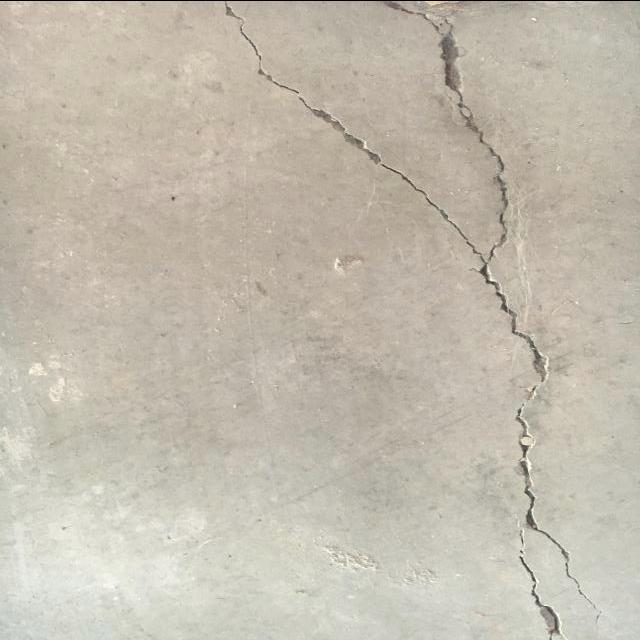SurfaceCrack: (226, 0, 632, 639)
